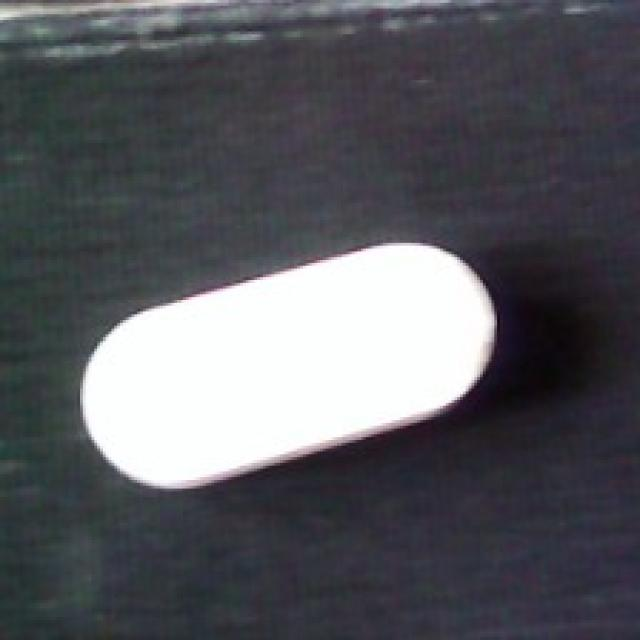no-defect: (74, 237, 500, 488)
